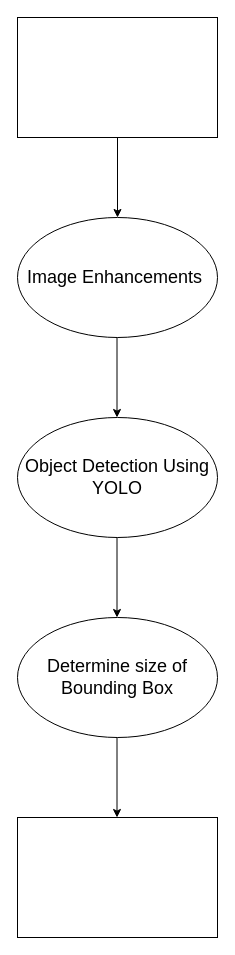
The diagram is 235 pixels wide and 955 high, and some of its shapes have lost their labels. The centre of each missing label's shape, as x and y in pixels:
"SAR Images" goes at pixel 117 77.
"Size and location of detected ships" goes at pixel 117 877.
